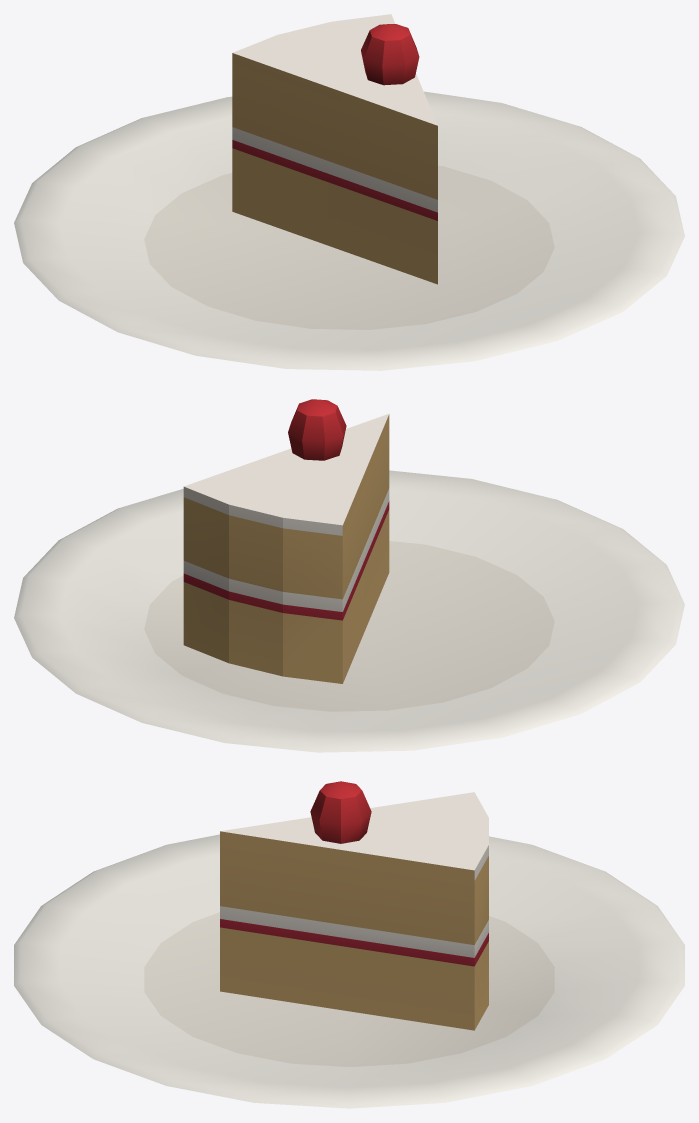
Rendered from cakeSlice.glb.
3 renders of one model, top to bottom at view 1: azimuth 30°, elevation 25°; view 2: azimuth 150°, elevation 25°; view 3: azimuth 270°, elevation 25°, orthographic.
Visible parts, largest first — view 1: cakeSlice; view 2: cakeSlice; view 3: cakeSlice.
Part boxes in pixels (bbox=[...]): cakeSlice: bbox=[14, 14, 684, 370]; cakeSlice: bbox=[14, 399, 684, 752]; cakeSlice: bbox=[14, 781, 684, 1108].
Bounding box in the file's own units: 0.2876 × 0.11 × 0.2847.
